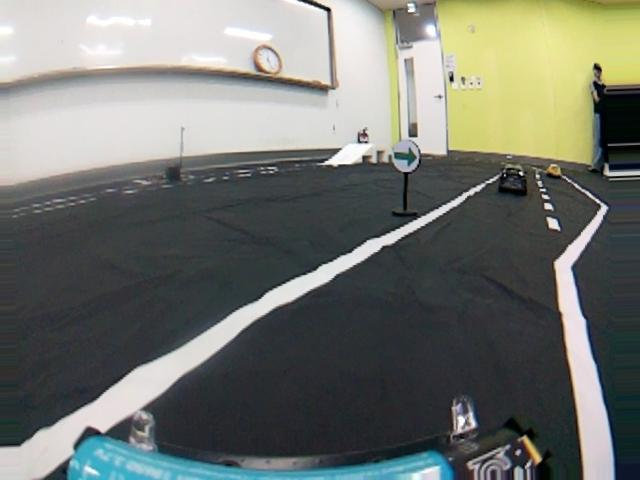car: (495, 158, 530, 200), (544, 155, 571, 179)
right: (4, 278, 640, 476)
sign_right: (386, 133, 424, 175)
